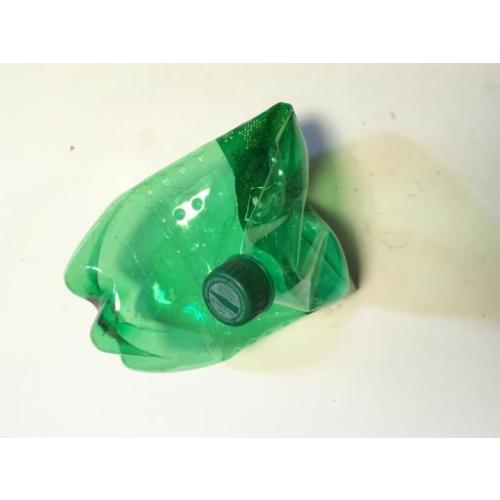plastic: (63, 101, 356, 372)
